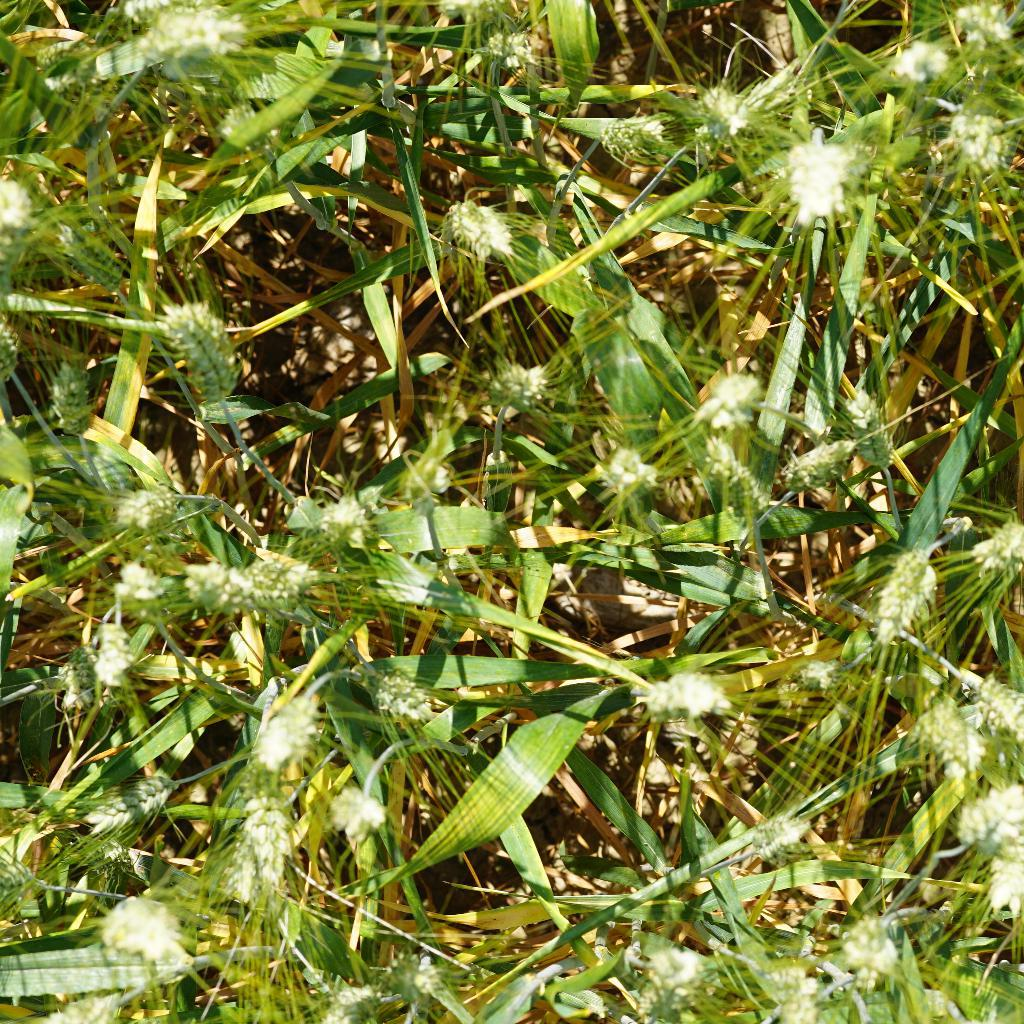0-0: (154, 291, 245, 413), (103, 892, 217, 983), (221, 789, 305, 904), (769, 126, 863, 223), (893, 672, 975, 769), (242, 675, 325, 768), (873, 539, 941, 647), (950, 662, 1024, 757), (68, 773, 189, 828), (53, 621, 130, 707), (687, 73, 765, 154), (927, 98, 1012, 169), (146, 0, 277, 45), (347, 661, 443, 722), (32, 355, 103, 437), (647, 664, 735, 729), (695, 362, 778, 430), (231, 546, 328, 602), (582, 108, 677, 164), (626, 937, 720, 993), (60, 223, 129, 298), (33, 33, 104, 105), (774, 429, 859, 489), (301, 488, 377, 555), (441, 185, 518, 251), (744, 945, 821, 1011), (964, 504, 1024, 586), (98, 557, 175, 620), (955, 785, 1024, 855), (103, 489, 189, 545), (479, 358, 568, 410), (978, 832, 1024, 931), (848, 396, 907, 473), (697, 440, 762, 508), (474, 18, 564, 66), (299, 972, 381, 1024), (385, 938, 436, 1015), (0, 855, 66, 914), (747, 808, 817, 862), (587, 441, 654, 497), (178, 552, 246, 606), (934, 0, 1011, 47), (0, 172, 45, 247), (896, 34, 948, 93), (202, 100, 261, 152), (329, 781, 392, 828), (795, 650, 843, 699), (1005, 0, 1024, 8)
